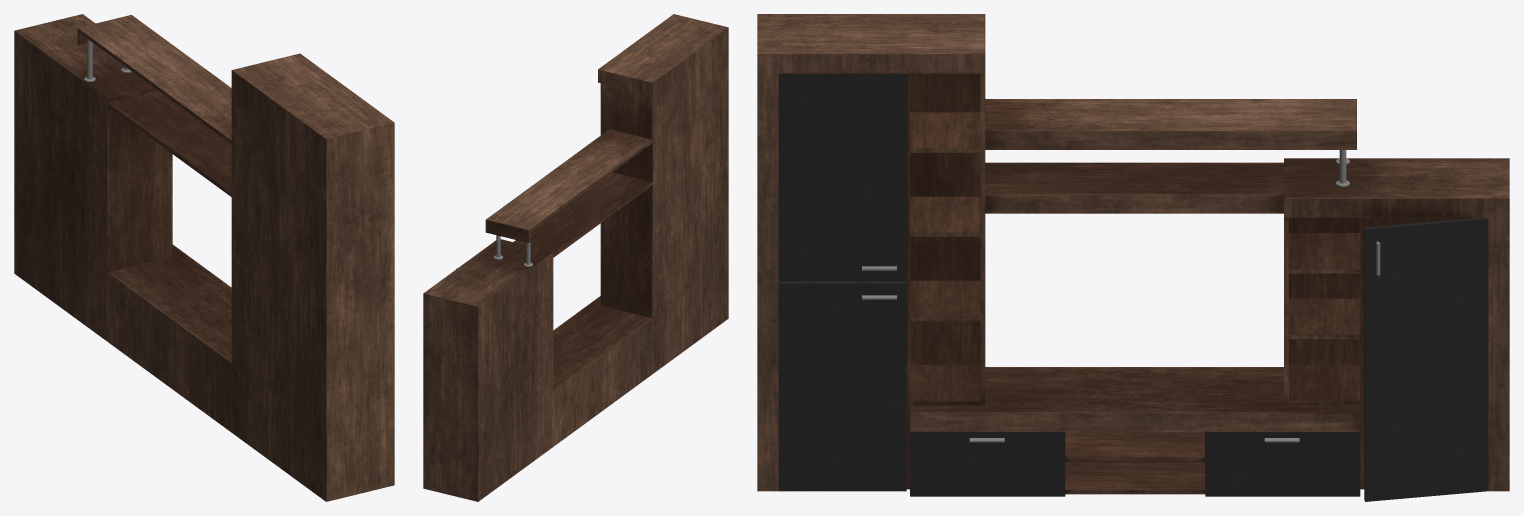
The model's file is tvWallCabinet.glb.
3 renders of one model, left to right at view 1: azimuth 30°, elevation 25°; view 2: azimuth 150°, elevation 25°; view 3: azimuth 270°, elevation 25°, orthographic. The views are drawn at different scales.
Parts seen in each view (by area): view 1: Shelf; view 2: Shelf; view 3: Shelf, ShelfDoor1, ShelfDoor2, ShelfDoor3, ShelfDoor5, ShelfDoor4.
Part boxes in pixels (<box>): Shelf: <box>14,14,394,501</box>; Shelf: <box>423,14,728,501</box>; Shelf: <box>757,14,1509,494</box>; ShelfDoor1: <box>1364,217,1488,501</box>; ShelfDoor2: <box>778,281,906,491</box>; ShelfDoor3: <box>778,73,906,281</box>; ShelfDoor5: <box>910,430,1065,496</box>; ShelfDoor4: <box>1205,432,1360,496</box>.
Bounding box in the file's own units: 0.4922 × 1.92 × 3.
3 materials, 3 textured.
